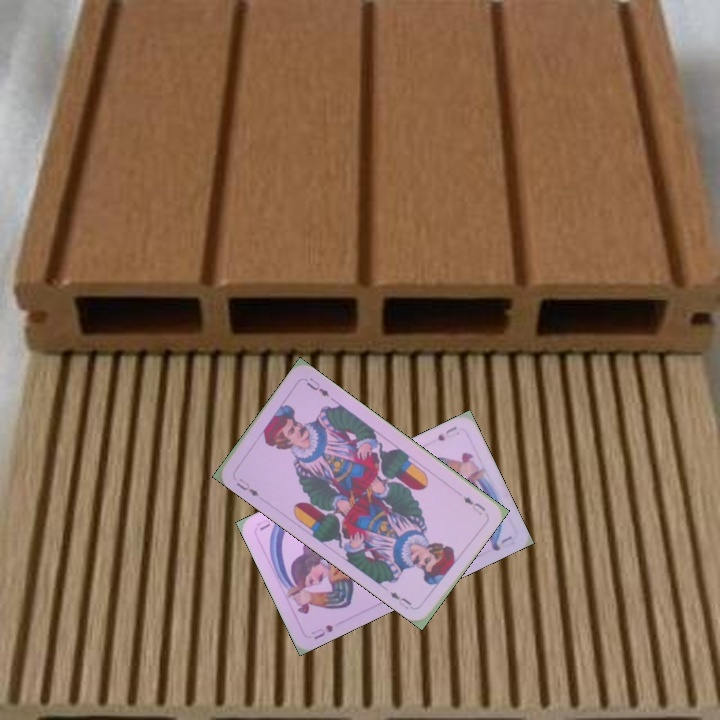EU: (459, 492, 488, 518), (232, 474, 261, 499)
SU: (307, 620, 336, 642), (433, 422, 459, 444)
